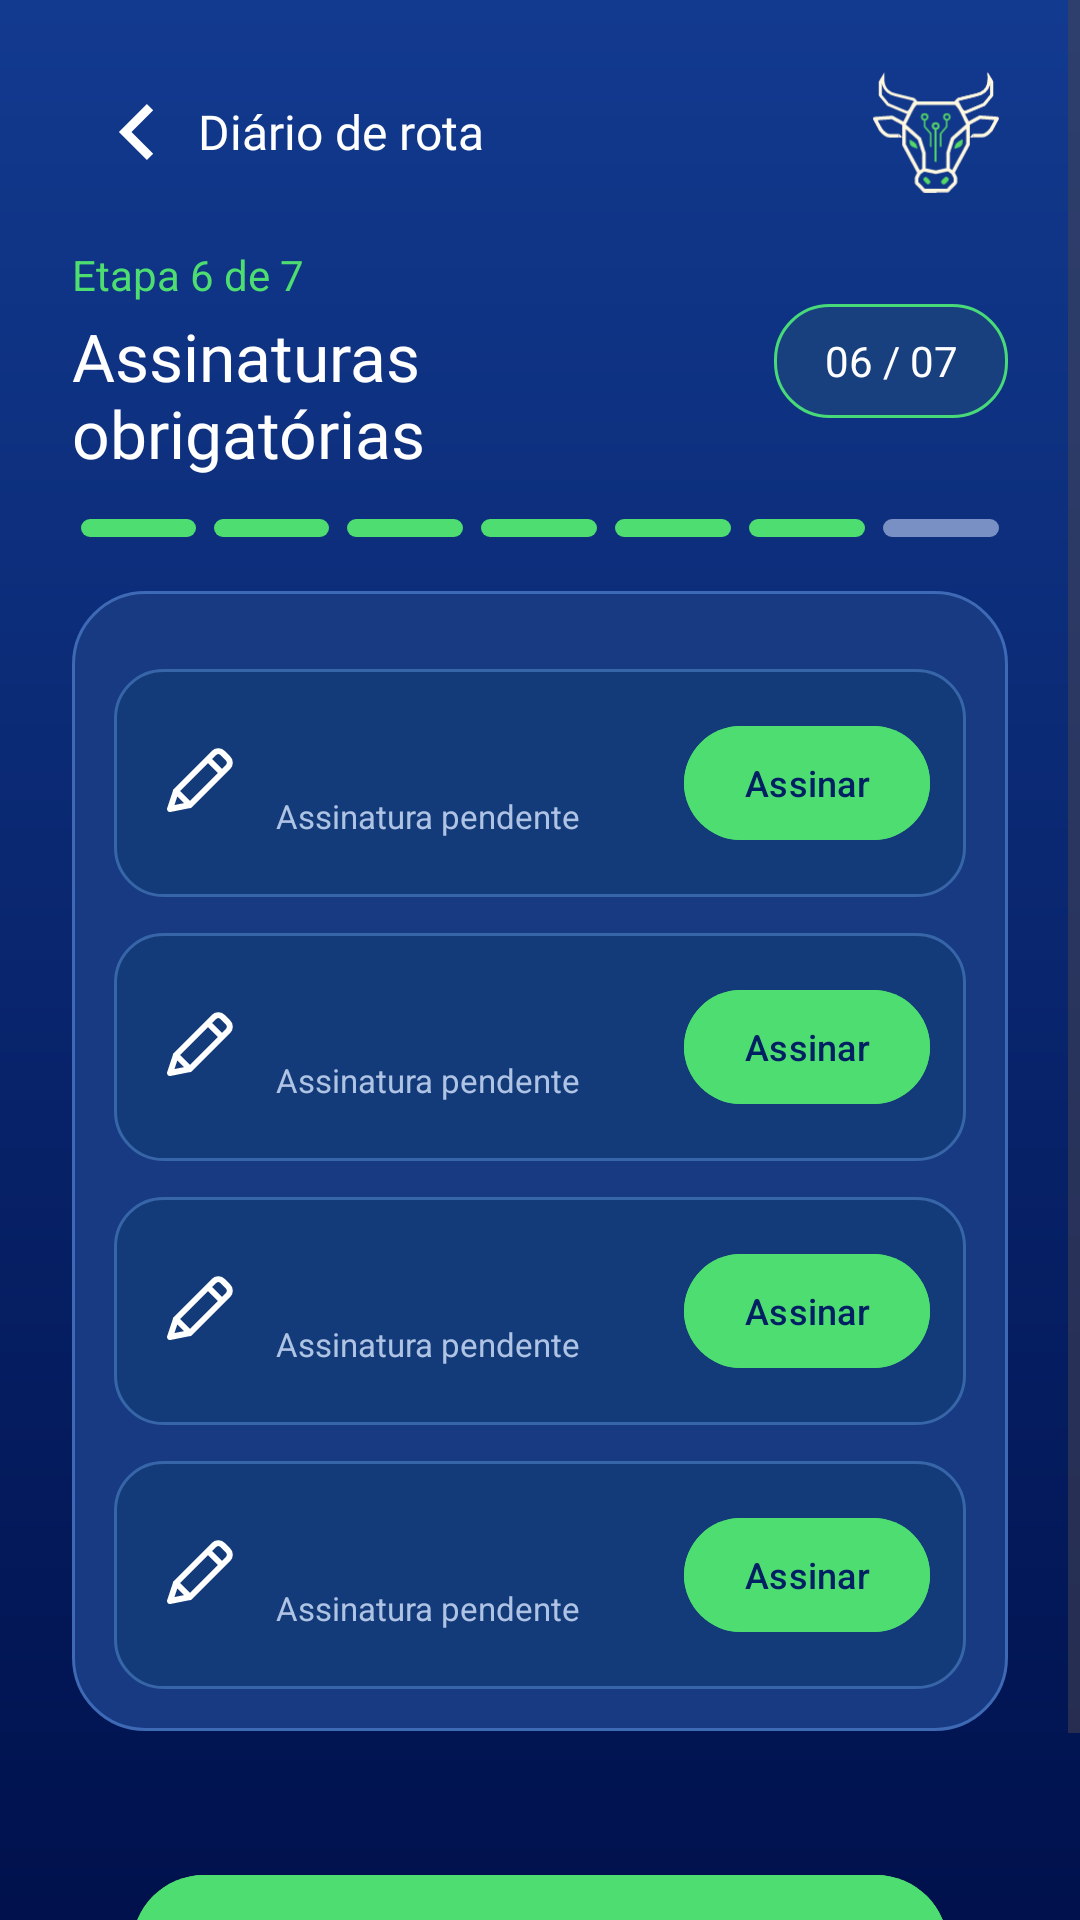

Named icons in this screenshot (1080px×1920px) and their centers, [x,y]:
Desenhar assinatura: [200,780], [200,1044], [200,1308], [200,1572]
Voltar: [136,132]
